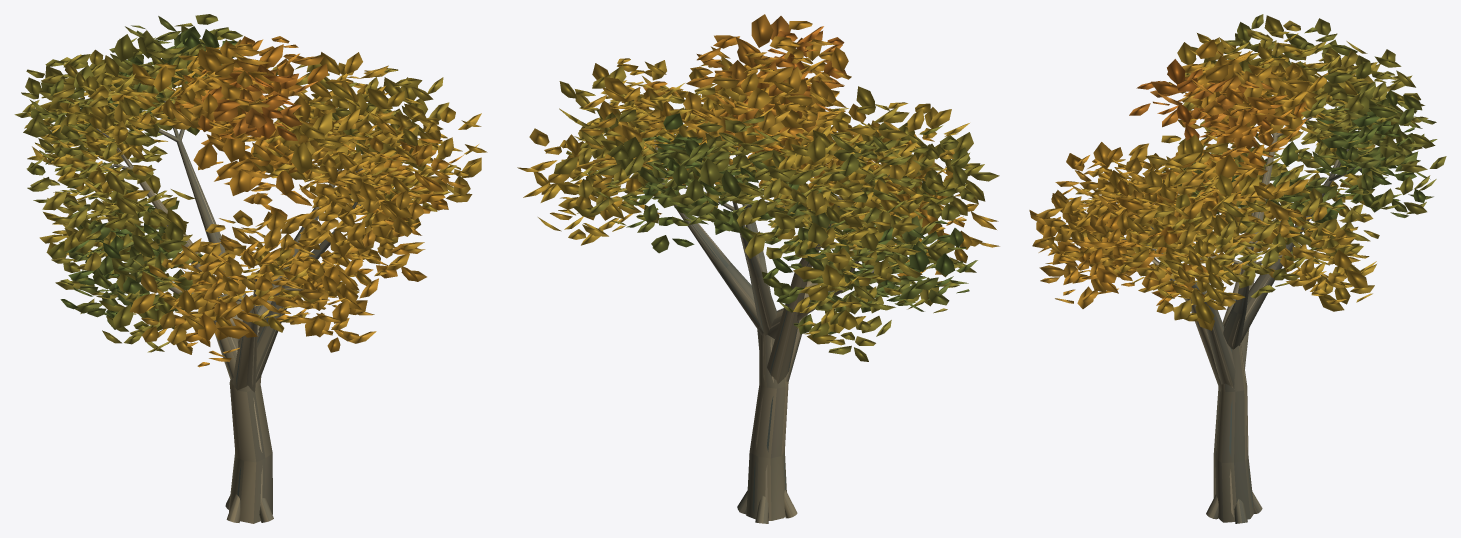
The model's file is HK_Tree_Zelkova.glb.
3 views of the same model, side by side, from view 1: azimuth 30°, elevation 25°; view 2: azimuth 150°, elevation 25°; view 3: azimuth 270°, elevation 25° (orthographic). The views are drawn at different scales.
Visible parts, largest first — view 1: HK_Tree_Zelkova; view 2: HK_Tree_Zelkova; view 3: HK_Tree_Zelkova.
Boxes of the visible parts, left/top/right/bottom form: HK_Tree_Zelkova: left=14, top=14, right=487, bottom=523; HK_Tree_Zelkova: left=517, top=14, right=999, bottom=523; HK_Tree_Zelkova: left=1029, top=14, right=1446, bottom=523.
Size of the model in its own units: 8.11 by 8.84 by 7.24.
